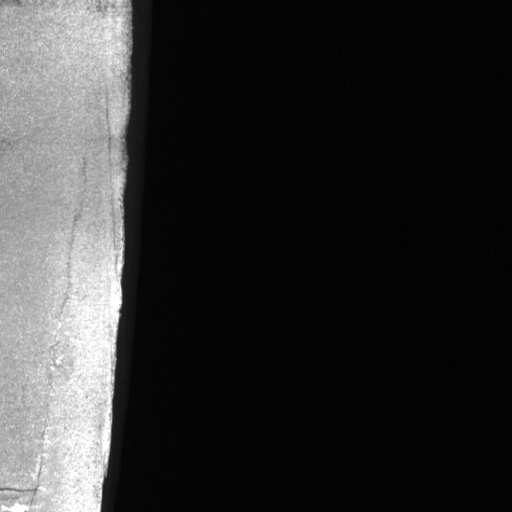bianjiaoliewen: (32, 154, 92, 498)
